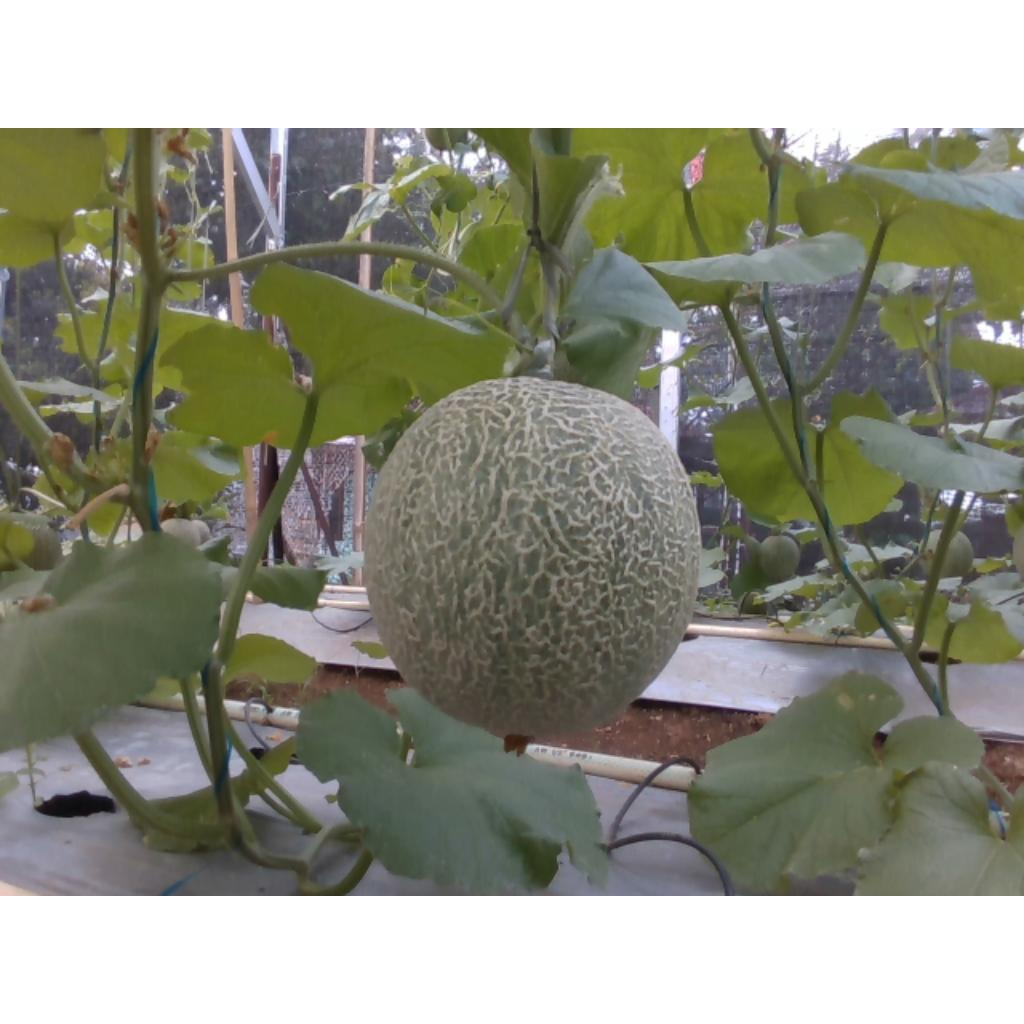melon: (368, 376, 699, 738)
